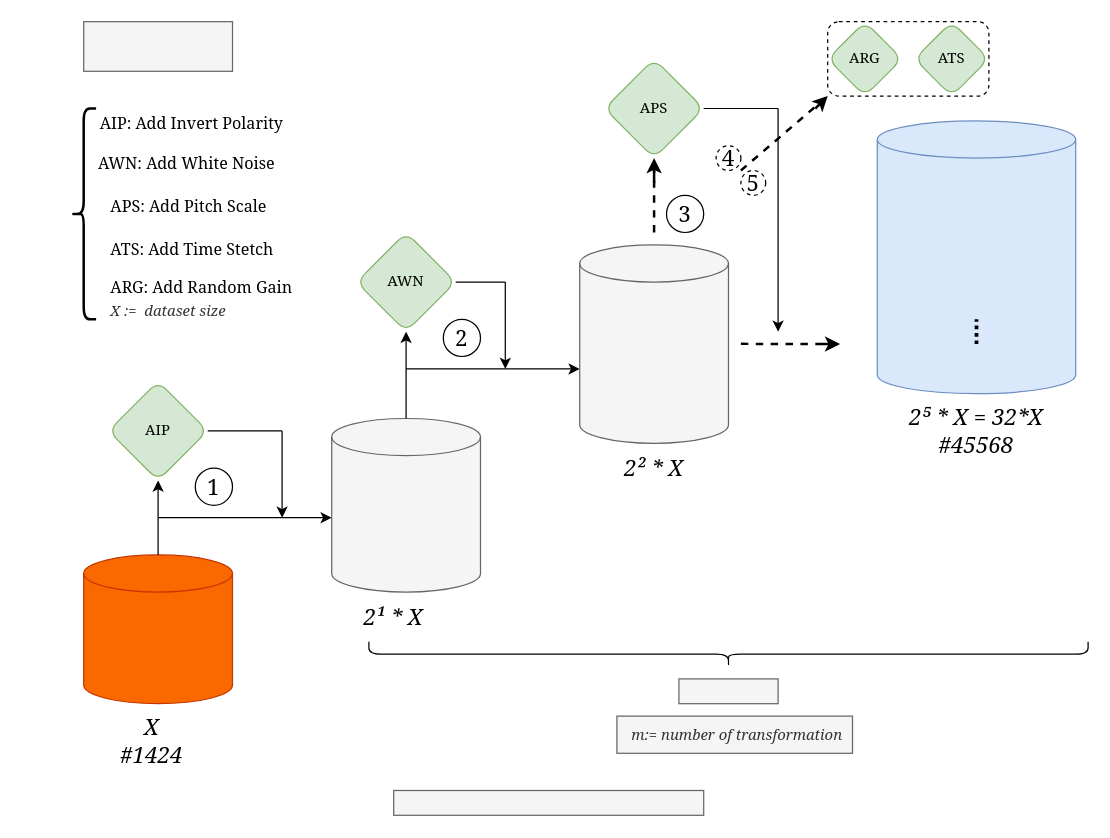
This 1110x838 diagram has some shape labels left out. Each missing label, with the centre of its shape:
"2^m * X" belongs at point (728, 691).
"Audio Data Augmentation" belongs at point (548, 802).
"Original + AIP + AWN_Original + AWN_AIP + + APS_AWN_..._AIP_Original" belongs at point (976, 257).
"Original + AIP_Original" belongs at point (405, 504).
"Original + AIP_Original + AWN_Original + AWN_AIP_Original" belongs at point (653, 343).
"Original dataset" belongs at point (157, 629).
"Process 2" belongs at point (157, 45).
